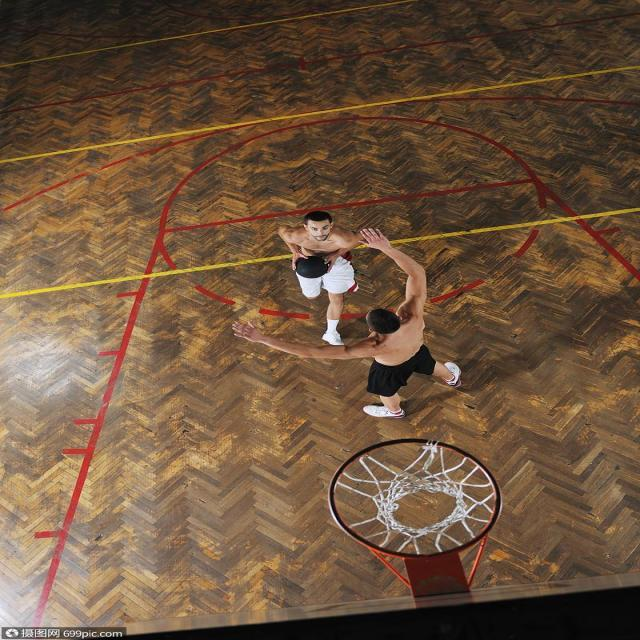rim: (294, 253, 334, 280)
